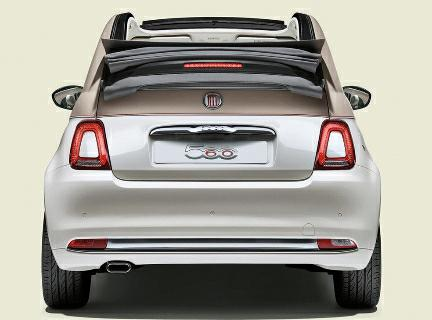菲亚特-500: (36, 10, 389, 320)
